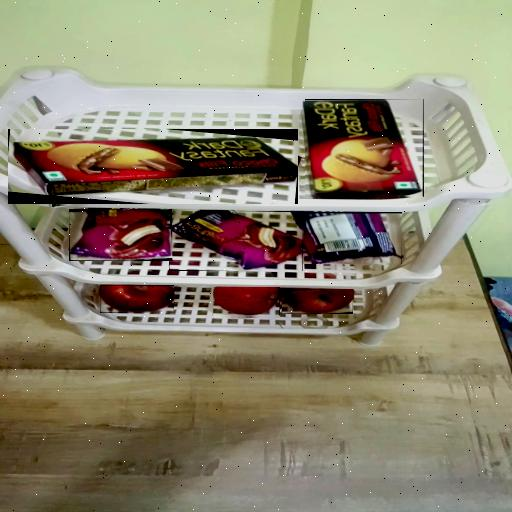Apple: (100, 285, 174, 313), (213, 288, 280, 318), (280, 289, 352, 314)
Choco Fills: (8, 130, 298, 206), (305, 100, 424, 198)
Choco Pie: (169, 211, 303, 271), (292, 212, 402, 264), (69, 209, 172, 261)
